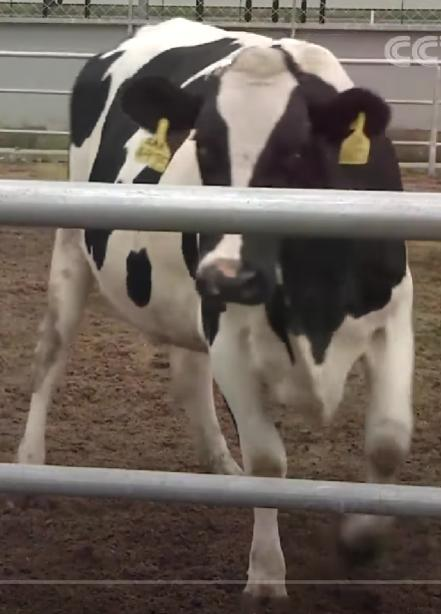cow: (17, 21, 414, 594)
